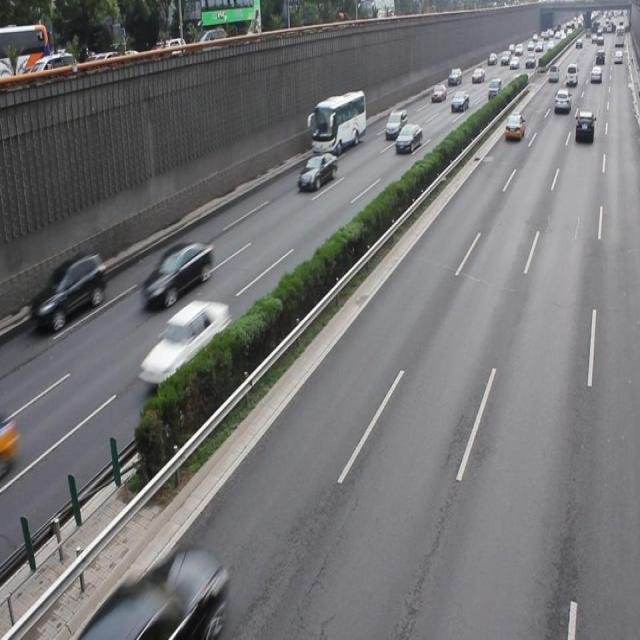car: (86, 543, 225, 640), (140, 301, 230, 382), (31, 251, 106, 331), (140, 238, 214, 306), (296, 152, 337, 192), (1, 410, 19, 480)
